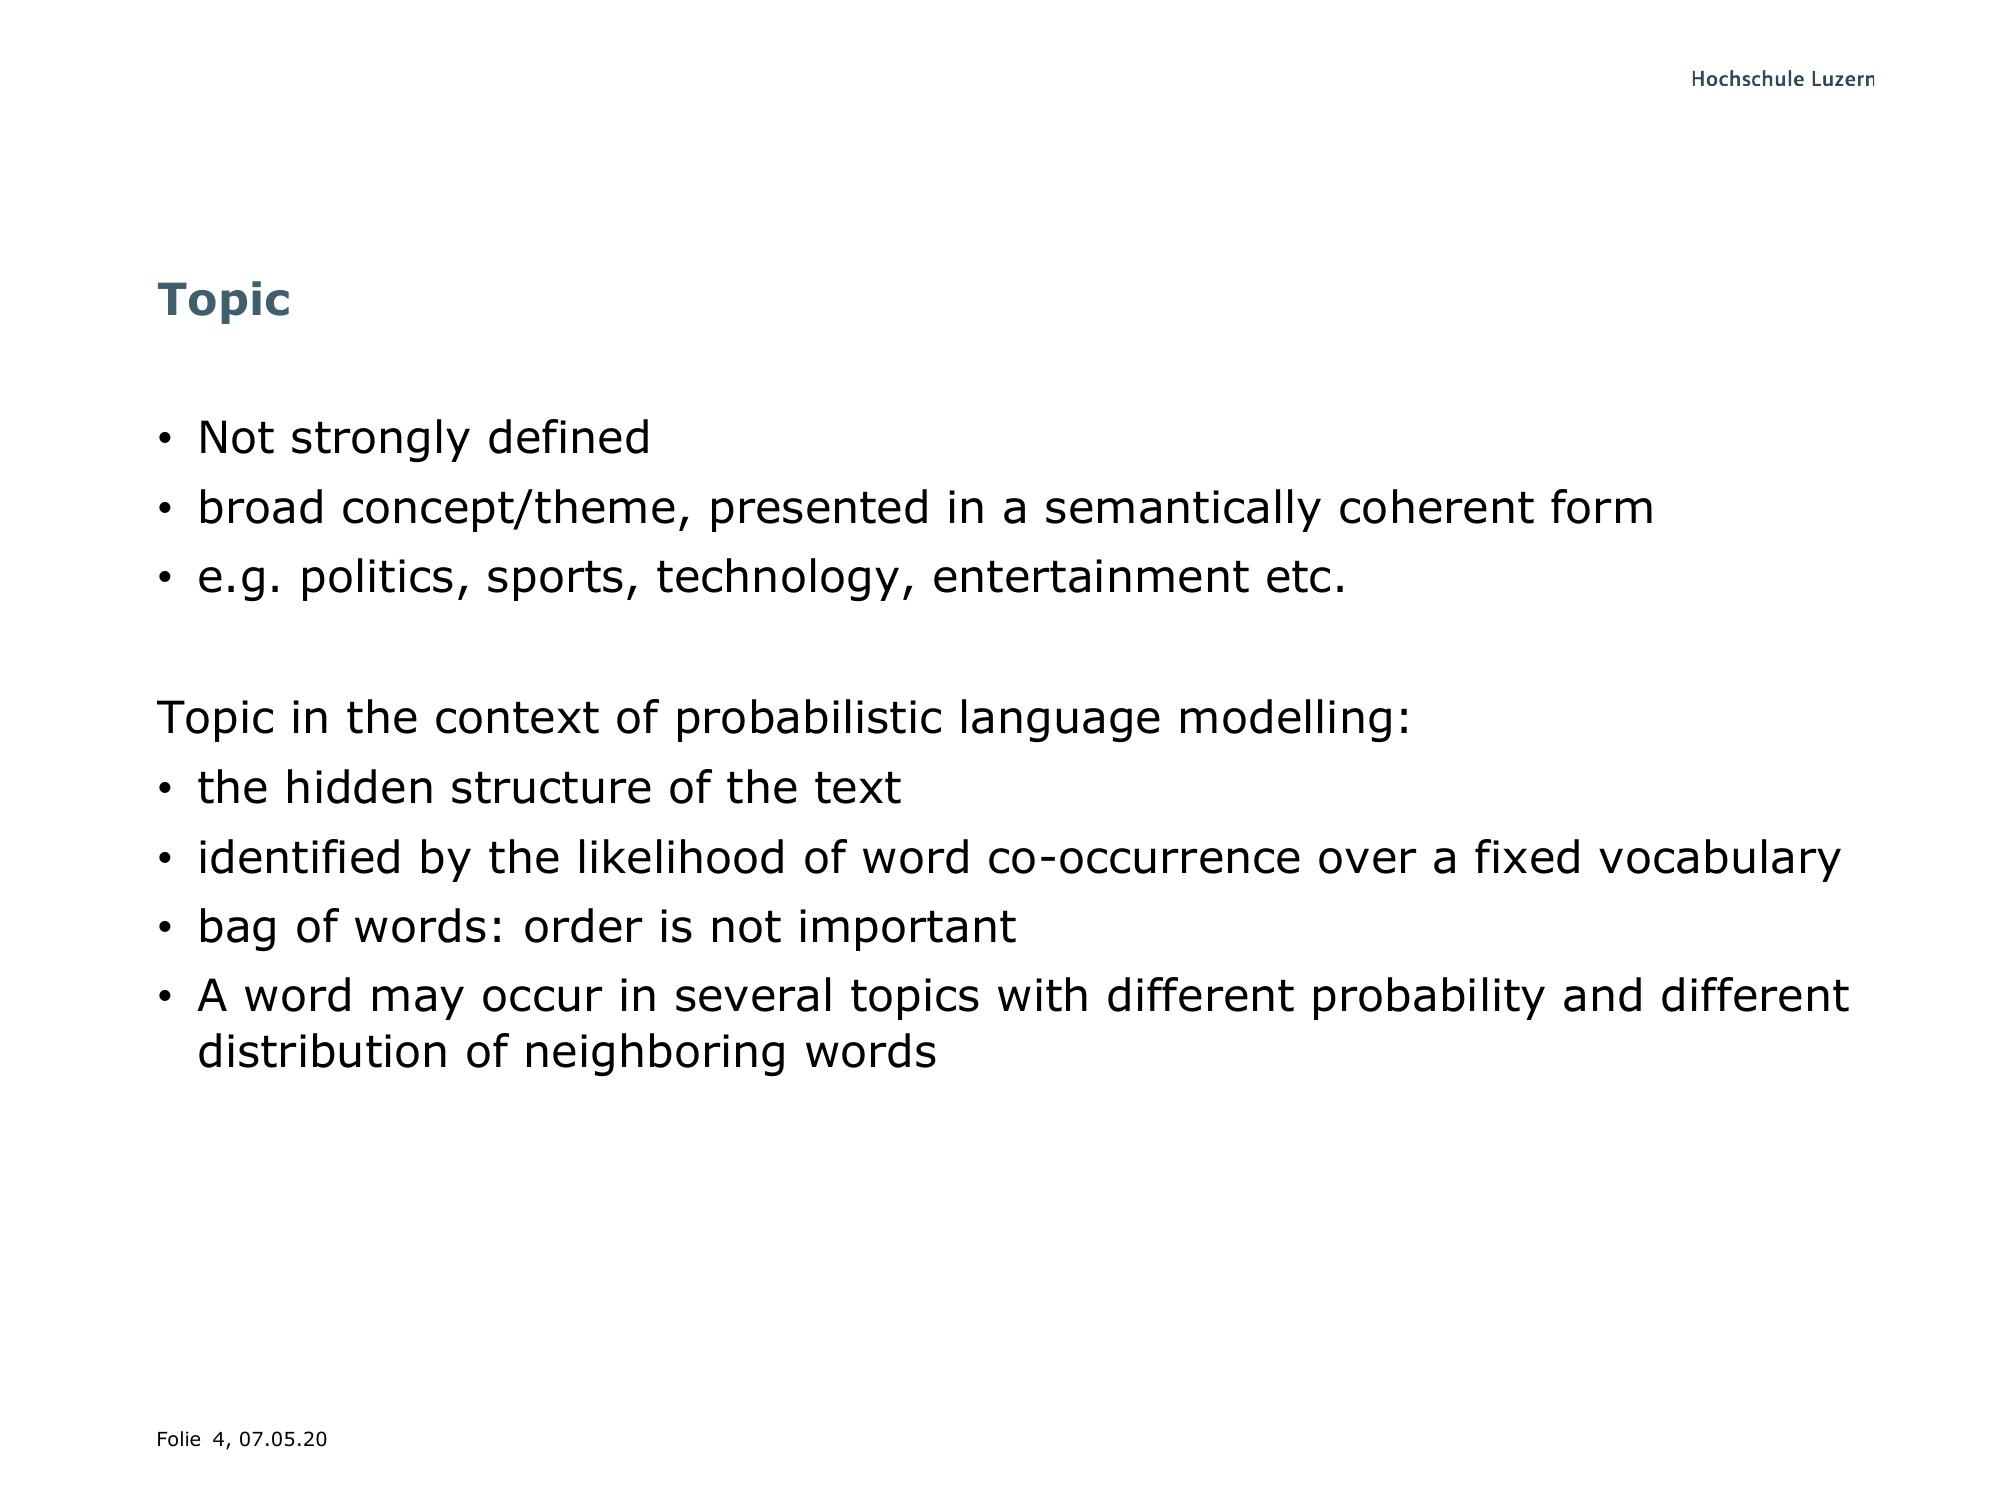Title: (120, 276, 312, 328)
